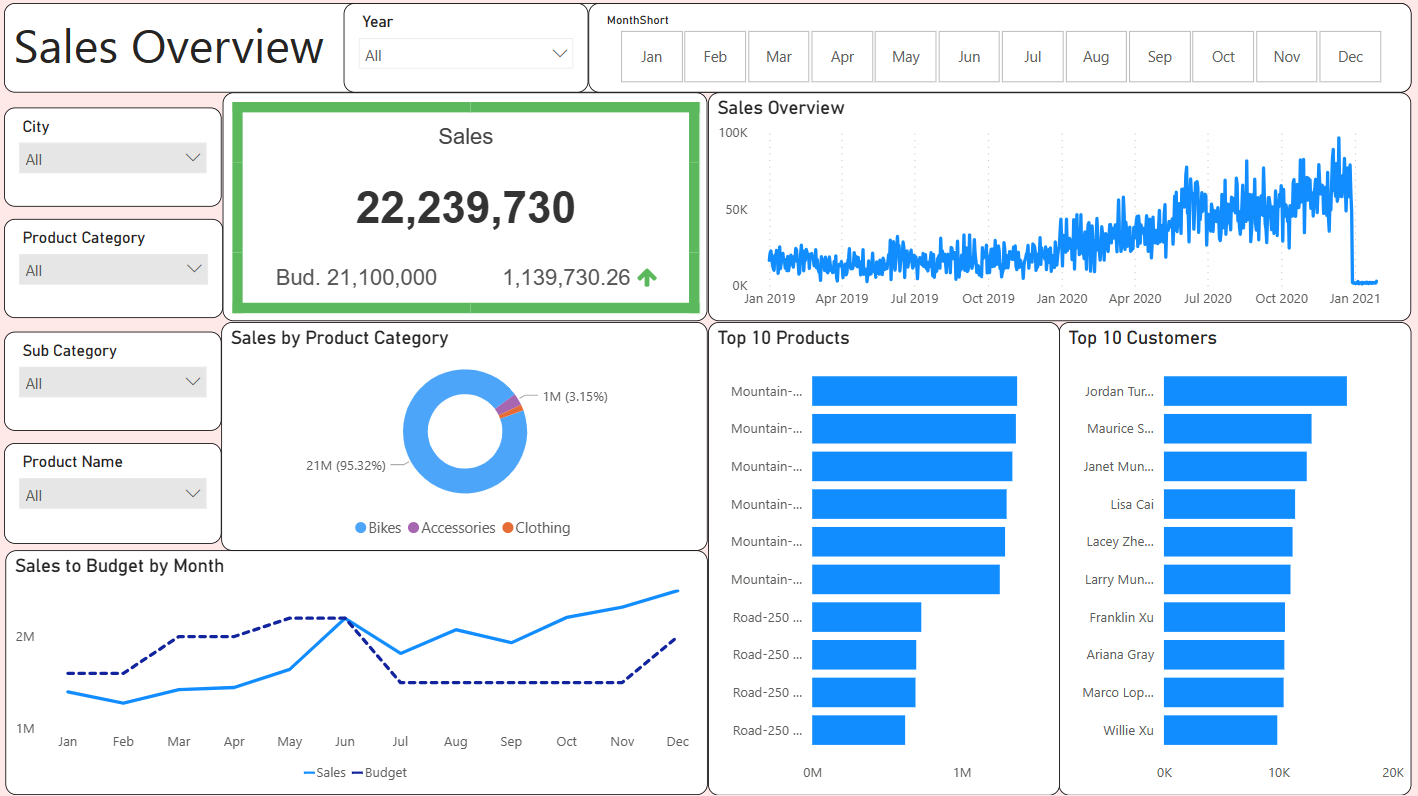

Layout of this report page (visuals, bound fields, positions):
{"tool":"powerbi","page":{"name":"Sales Overview","canvas":[1280,720],"ordinal":0},"visuals":[{"type":"textbox","box":[0,0,1279.1,81.4],"z":0},{"type":"slicer","fields":{"Values":["Dim_Date.MonthShort"]},"box":[531.2,0,748.3,81.4],"z":1000},{"type":"slicer","fields":{"Values":["Dim_Date.Year"]},"box":[308.6,0,222.7,81.4],"z":2000},{"type":"slicer","fields":{"Values":["Dim_Customer.City"]},"box":[0,94.9,197.8,90.4],"z":3000},{"type":"slicer","fields":{"Values":["Dim_Product.Product Name"]},"box":[0,400.1,197.8,91.6],"z":4000},{"type":"slicer","fields":{"Values":["Dim_Product.Sub Category"]},"box":[0,298.4,197.8,90.4],"z":5000},{"type":"slicer","fields":{"Values":["Dim_Product.Product Category"]},"box":[0,196.7,198.9,90.4],"z":6000},{"type":"BBED0A4D4D8D44CE93CF2DAFADEE466C","fields":{"actual":["Measure.Sales"],"target1":["Measure.BudgetAmt"],"target2":["Measure.Sales - Bud"]},"box":[198.8,81.4,440.7,208.1],"z":7000},{"type":"donutChart","fields":{"Category":["Dim_Product.Product Category"],"Y":["Measure.Sales"]},"box":[197.7,289.5,441.9,208.1],"z":8000},{"type":"lineChart","title":"Sales to Budget by Month","fields":{"Y":["Measure.Sales","Measure.BudgetAmt"],"Category":["Dim_Date.MonthShort"]},"box":[1.1,497.3,638.6,222.7],"z":9000},{"type":"barChart","title":"Top 10 Customers","fields":{"Y":["Measure.Sales"],"Category":["Dim_Customer.Fullname"]},"box":[959.3,289.5,320.9,430.2],"z":10000},{"type":"barChart","title":"Top 10 Products","fields":{"Y":["Measure.Sales"],"Category":["Dim_Product.Product Name"]},"box":[639.5,289.5,319.8,430.2],"z":11000},{"type":"lineChart","title":"Sales Overview","fields":{"Category":["Dim_Date.Date"],"Y":["Measure.Sales"]},"box":[640,81,639,208],"z":12000}]}

Visuals, with their boxes in screenshot pixels (x1, y1, x2, y2), scaled from the page's 1280x720 canvas onto the 1418x796 screenshot:
textbox: [x1=0, y1=0, x2=1417, y2=90]
slicer - Dim_Date.MonthShort: [x1=588, y1=0, x2=1417, y2=90]
slicer - Dim_Date.Year: [x1=342, y1=0, x2=589, y2=90]
slicer - Dim_Customer.City: [x1=0, y1=105, x2=219, y2=205]
slicer - Dim_Product.Product Name: [x1=0, y1=442, x2=219, y2=544]
slicer - Dim_Product.Sub Category: [x1=0, y1=330, x2=219, y2=430]
slicer - Dim_Product.Product Category: [x1=0, y1=217, x2=220, y2=317]
BBED0A4D4D8D44CE93CF2DAFADEE466C - Measure.Sales x Measure.BudgetAmt: [x1=220, y1=90, x2=708, y2=320]
donutChart - Dim_Product.Product Category x Measure.Sales: [x1=219, y1=320, x2=709, y2=550]
"Sales to Budget by Month" lineChart: [x1=1, y1=550, x2=709, y2=795]
"Top 10 Customers" barChart: [x1=1063, y1=320, x2=1417, y2=795]
"Top 10 Products" barChart: [x1=708, y1=320, x2=1063, y2=795]
"Sales Overview" lineChart: [x1=709, y1=90, x2=1417, y2=320]
